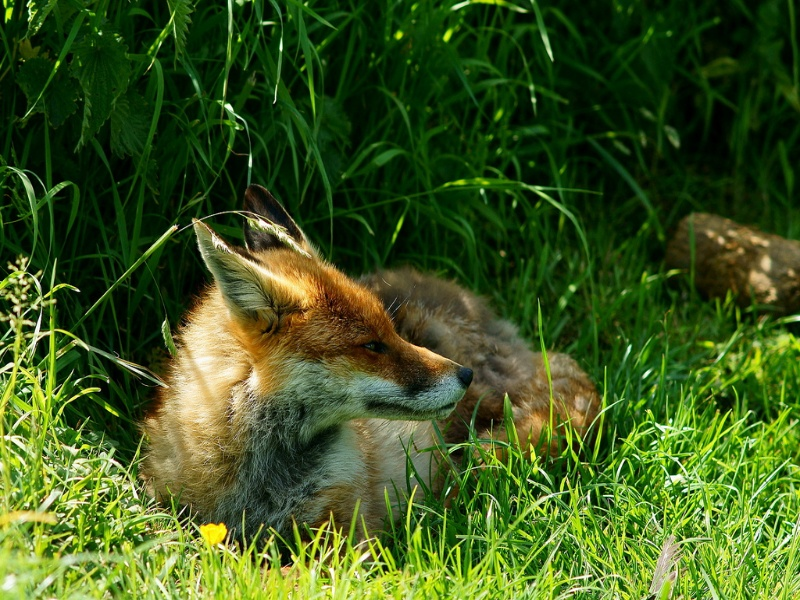fox: (106, 193, 609, 551)
